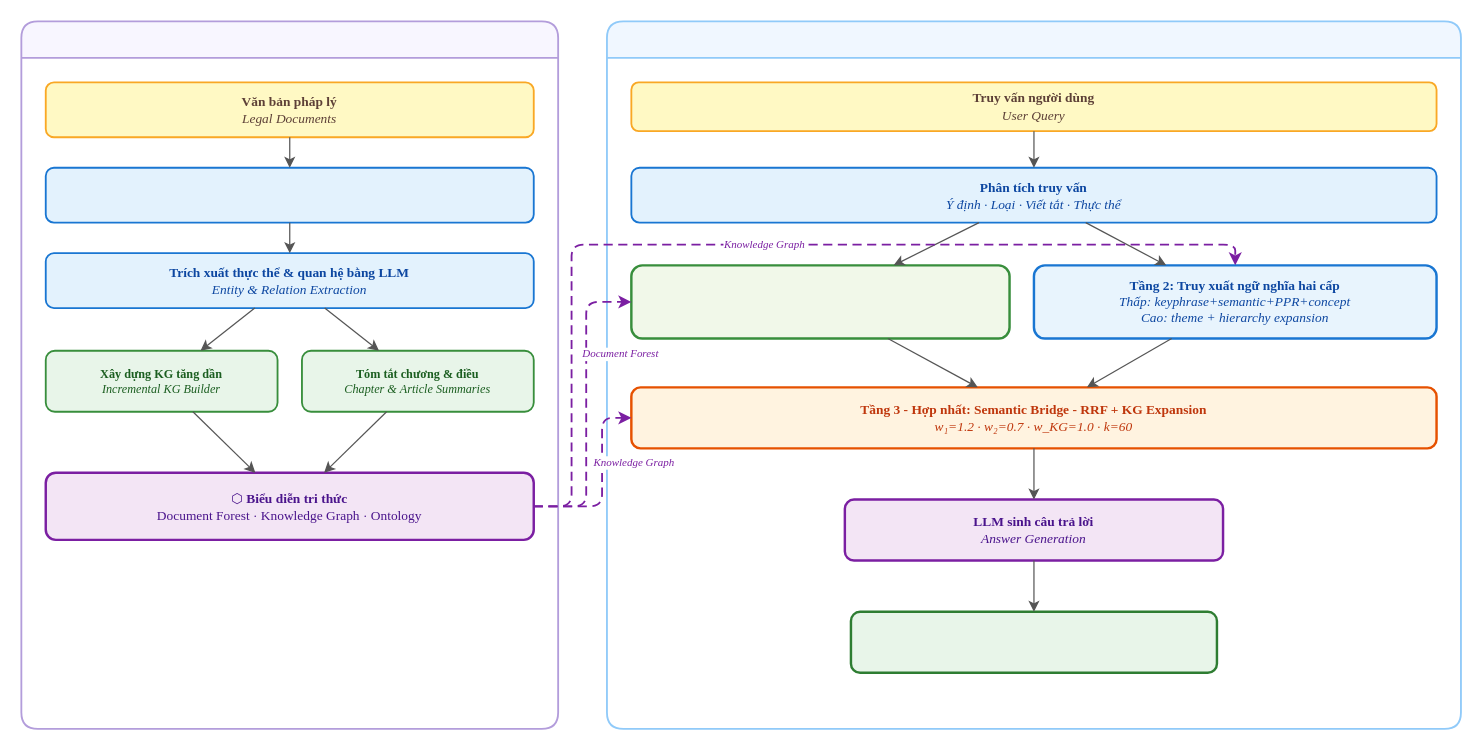
The diagram is 1484 pixels wide and 752 high, and some of its shapes have lost their labels. The shapes that lost their labels are listed below. From the top down, each one's box as (x1, y1, x2, y2) in pixels, then its label:
(44, 166, 534, 223): Phân tích cú pháp tài liệu Document Parsing
(630, 264, 1010, 339): Tầng 1: Duyệt cây hướng dẫn bởi LLM Forest → Domain → Doc → Chapter → Article
(20, 20, 559, 729): ⚙ Pha ngoại tuyến
(605, 20, 1461, 729): 🔍 Pha trực tuyến
(849, 610, 1218, 673): Câu trả lời pháp lý Legal Answer
